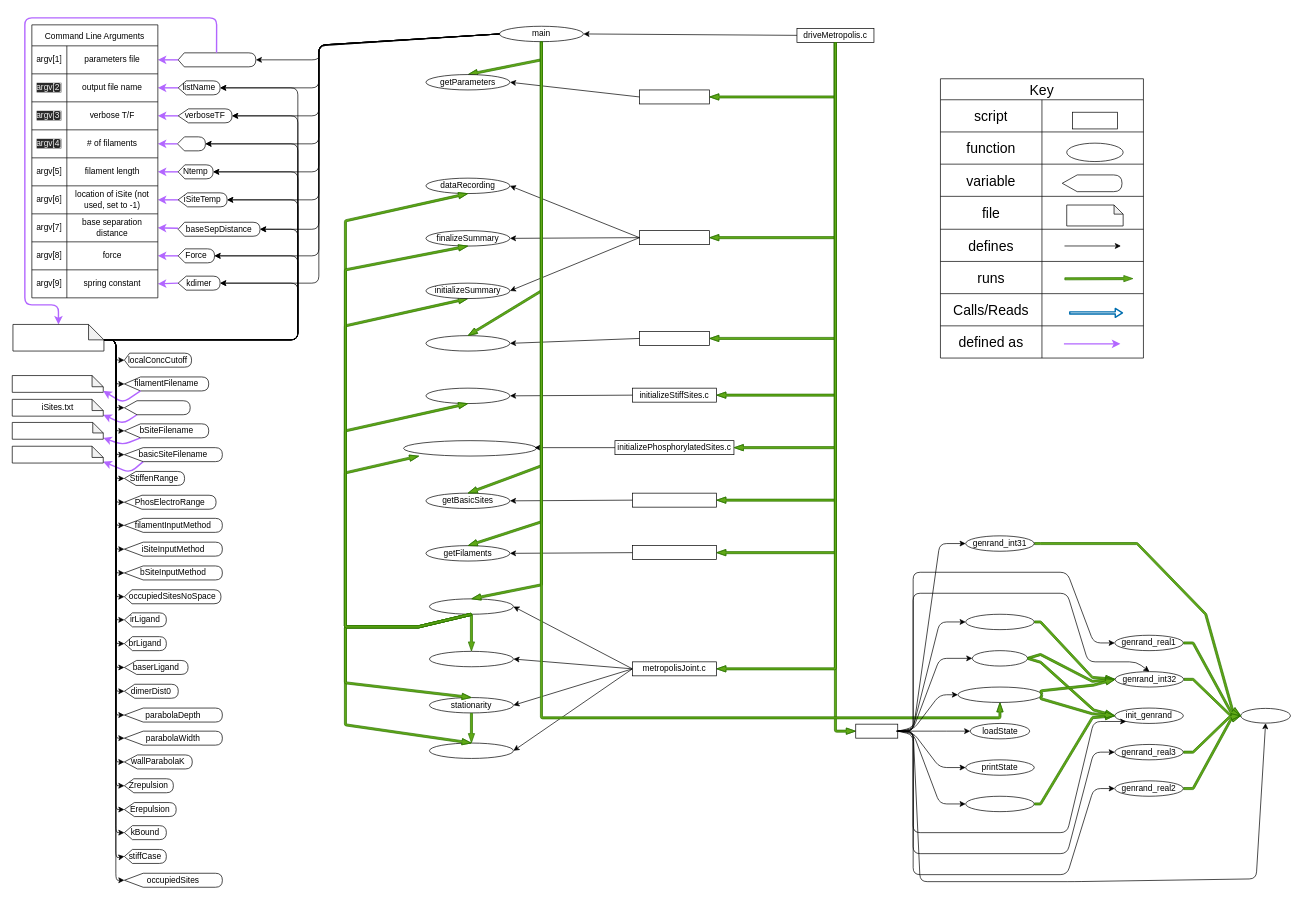
Some shapes in this 1303 by 900 pixel diagram are drawn without their labels. Each missing label, with the centre of its shape:
appendBins: the point at 471,750
basicSites.txt: the point at 57,454
bSites.txt: the point at 57,430
filaments.txt: the point at 57,383
genrand_res53: the point at 999,622
getBasicSites.c: the point at 674,499
getFilaments.c: the point at 674,552
getParameters.c: the point at 674,96
getSites: the point at 467,343
getSites.c: the point at 674,338
init_by_array: the point at 999,804
initializePhosphorylatedSites: the point at 470,448
initializeStiffSites: the point at 467,395
iSiteFilename: the point at 157,407
metropolisJoint: the point at 471,606
next_state: the point at 1265,715
NFil: the point at 191,143
outputControl.c: the point at 674,237
parameters.txt: the point at 58,337
paramsFilename: the point at 216,59
RanInit: the point at 1000,658
RanInitReturnIseed: the point at 999,694
rotate: the point at 471,659
twister.c: the point at 876,730
